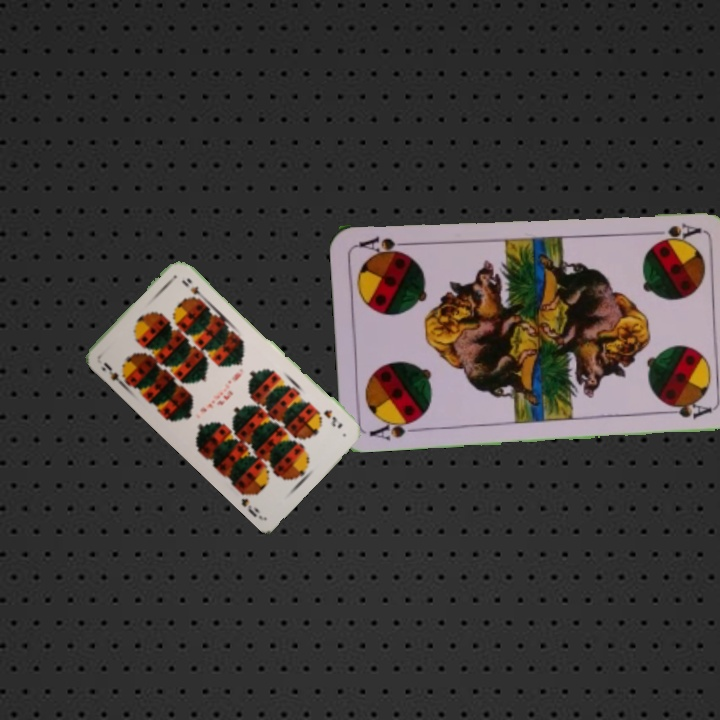S9: (99, 358, 130, 390), (320, 405, 345, 431)
SA: (365, 414, 423, 443), (643, 219, 703, 241)
